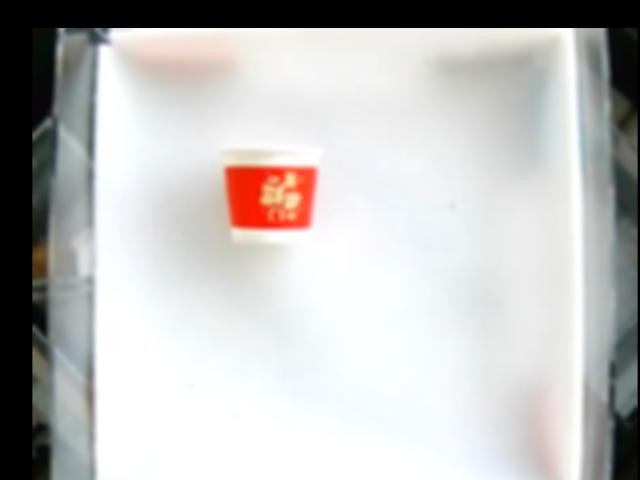Cup: (218, 139, 321, 245)
